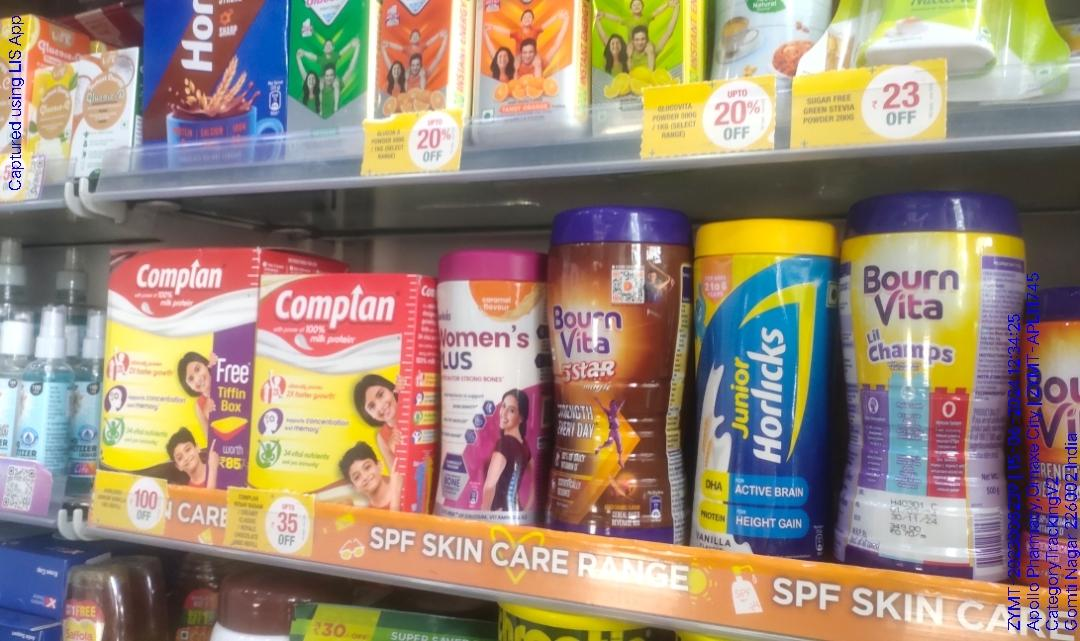BOURN_VITA_CHAMPS_500_G_JAR: (836, 195, 1007, 575)
BOURN_VITA_FIVE_STAR_MAGIC_500_G_JAR: (545, 203, 686, 542)
COMPLAN_CHOCOLATE_500_GMS_PACK: (105, 246, 245, 486)
COMPLAN_PISTA_BADAM_500_GMS_PACK: (255, 275, 409, 507)
